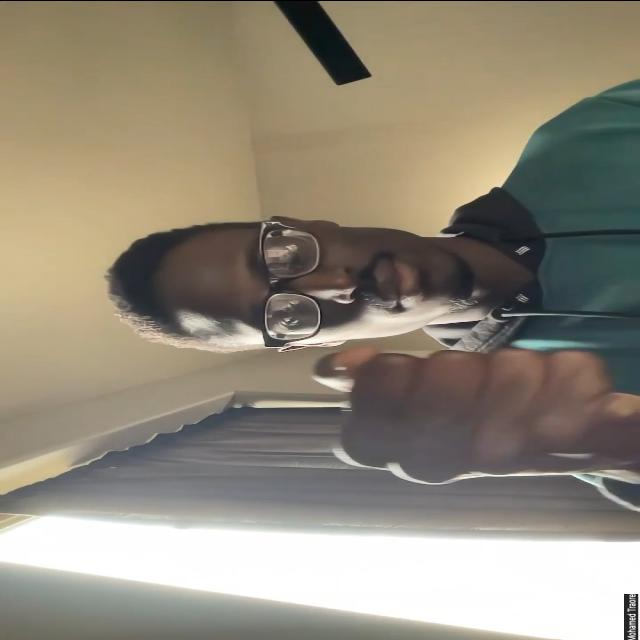Rock: (312, 345, 640, 484)
